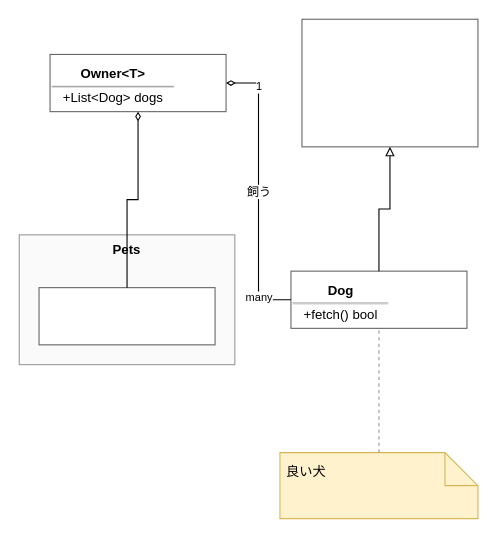
Image size: 497x538. Some labels were removed from this diagram. The centre of each missing label's shape, as x and y in pixels:
"Cat +meow() void" goes at point 126,316.
"«abstract» Animal +String name -int age +makeSound() void" goes at point 389,82.
